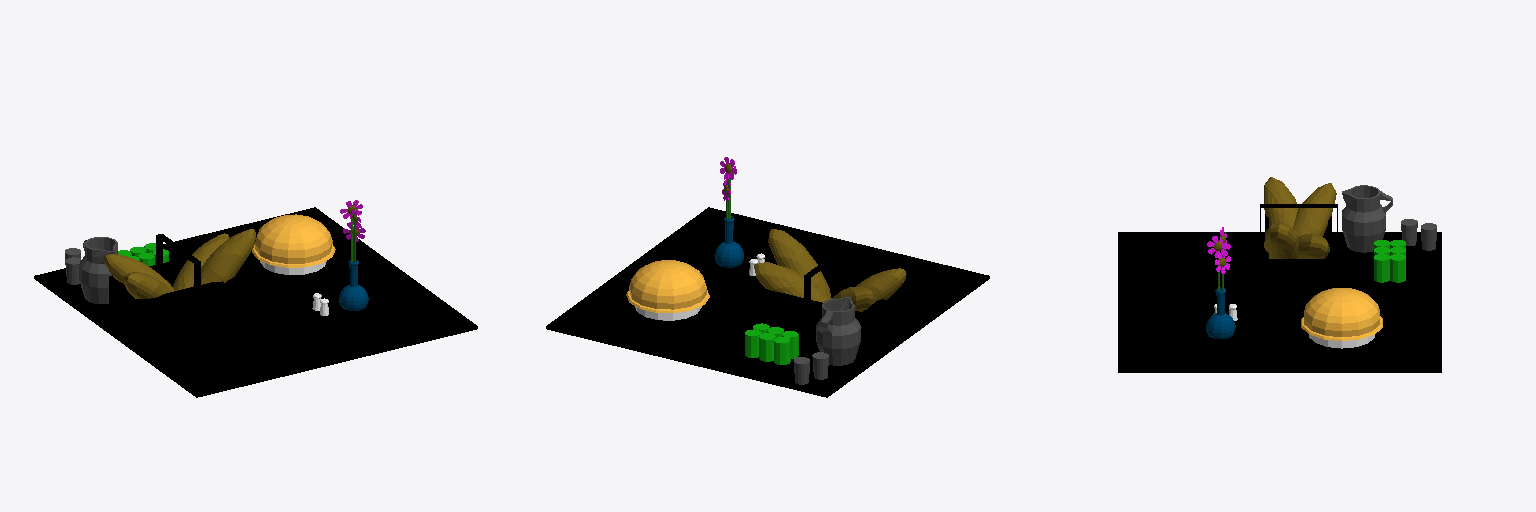
The model's file is PicnicSetting.obj.
The picture shows the model from 3 angles: view 1: azimuth 30°, elevation 25°; view 2: azimuth 150°, elevation 25°; view 3: azimuth 270°, elevation 25°; orthographic projection.
Parts seen in each view (by area): view 1: PicnicSpot Blanket, PicnicSpot Basket BasketnBread, PicnicSpot Pie, Pitcher Juice PicnicSpot, PicnicSpot BasketnBread Bread3, PicnicSpot BasketnBread Bread4, PicnicSpot BasketnBread Bread5, PicnicSpot BasketnBread Bread2, PicnicSpot Vase1 FlowerVase, PicnicSpot BasketnBread BasketHandle; view 2: PicnicSpot Blanket, PicnicSpot Basket BasketnBread, PicnicSpot Pie, Pitcher Juice PicnicSpot, PicnicSpot BasketnBread Bread3, PicnicSpot BasketnBread Bread2, PicnicSpot BasketnBread Bread5, PicnicSpot Vase1 FlowerVase, PicnicSpot BasketnBread BasketHandle, PicnicSpot BasketnBread Bread4; view 3: PicnicSpot Blanket, PicnicSpot Pie, PicnicSpot Basket BasketnBread, Pitcher Juice PicnicSpot, PicnicSpot BasketnBread Bread4, PicnicSpot BasketnBread Bread5, PicnicSpot BasketnBread Bread3, PicnicSpot Vase1 FlowerVase, PicnicSpot BasketnBread Bread2.
Part boxes in pixels (bbox=[...]): PicnicSpot Blanket: bbox=[34, 207, 477, 397]; PicnicSpot Basket BasketnBread: bbox=[109, 258, 251, 335]; PicnicSpot Pie: bbox=[252, 214, 335, 274]; Pitcher Juice PicnicSpot: bbox=[79, 237, 117, 303]; PicnicSpot BasketnBread Bread3: bbox=[193, 229, 255, 286]; PicnicSpot BasketnBread Bread4: bbox=[104, 254, 174, 291]; PicnicSpot BasketnBread Bread5: bbox=[124, 272, 170, 298]; PicnicSpot BasketnBread Bread2: bbox=[173, 233, 229, 290]; PicnicSpot Vase1 FlowerVase: bbox=[339, 260, 368, 310]; PicnicSpot BasketnBread BasketHandle: bbox=[156, 234, 200, 304]; PicnicSpot Blanket: bbox=[546, 207, 989, 397]; PicnicSpot Basket BasketnBread: bbox=[754, 271, 895, 348]; PicnicSpot Pie: bbox=[626, 260, 709, 320]; Pitcher Juice PicnicSpot: bbox=[816, 297, 860, 365]; PicnicSpot BasketnBread Bread3: bbox=[768, 229, 831, 298]; PicnicSpot BasketnBread Bread2: bbox=[754, 262, 828, 302]; PicnicSpot BasketnBread Bread5: bbox=[856, 268, 906, 305]; PicnicSpot Vase1 FlowerVase: bbox=[714, 216, 743, 267]; PicnicSpot BasketnBread BasketHandle: bbox=[804, 248, 848, 318]; PicnicSpot BasketnBread Bread4: bbox=[832, 287, 872, 311]; PicnicSpot Blanket: bbox=[1118, 232, 1441, 372]; PicnicSpot Pie: bbox=[1301, 288, 1382, 348]; PicnicSpot Basket BasketnBread: bbox=[1265, 214, 1331, 294]; Pitcher Juice PicnicSpot: bbox=[1342, 185, 1392, 252]; PicnicSpot BasketnBread Bread4: bbox=[1293, 183, 1336, 236]; PicnicSpot BasketnBread Bread5: bbox=[1264, 177, 1298, 227]; PicnicSpot BasketnBread Bread3: bbox=[1264, 223, 1298, 258]; PicnicSpot Vase1 FlowerVase: bbox=[1206, 287, 1235, 338]; PicnicSpot BasketnBread Bread2: bbox=[1297, 233, 1329, 258].
Size of the model in its own units: 19.66 by 8.08 by 19.66.